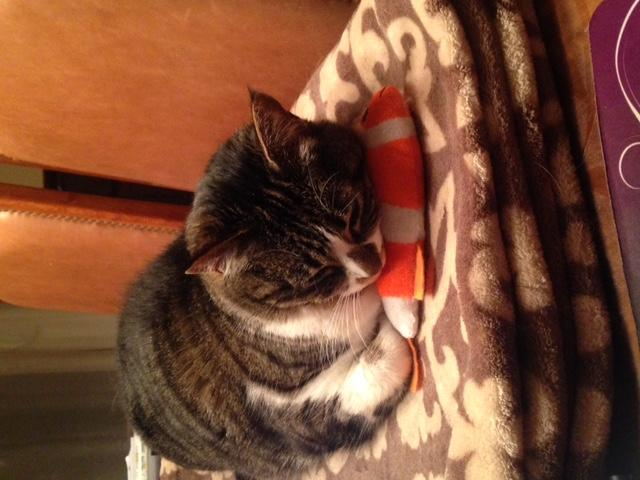clownfish: (354, 83, 427, 399)
playdoh: (116, 84, 412, 472)
